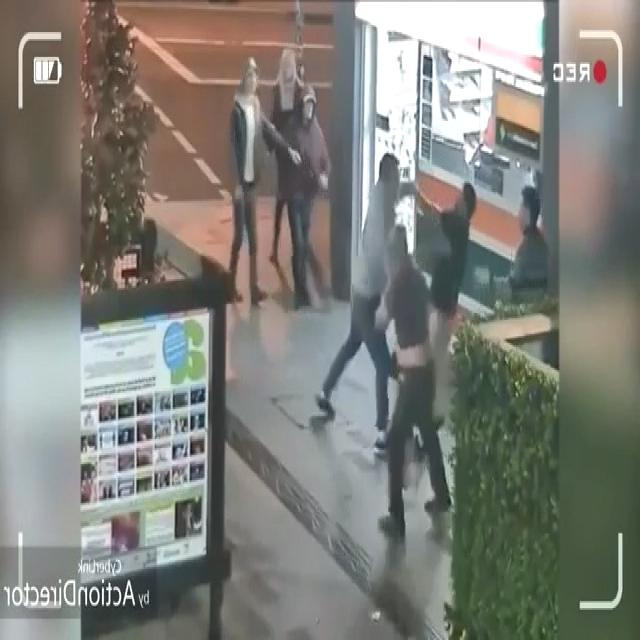fight: (313, 150, 474, 420), (348, 148, 448, 565), (428, 155, 429, 156)
